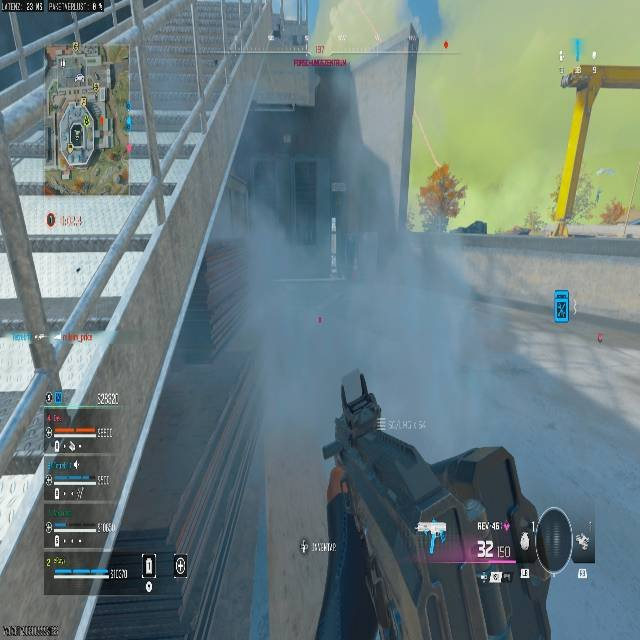head: (434, 165, 449, 181)
player: (419, 165, 465, 235)
